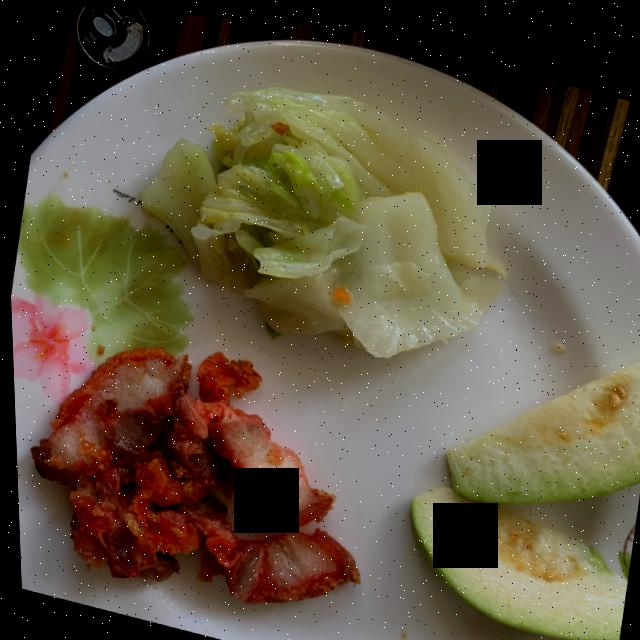cabbage: (141, 82, 499, 351)
coin: (76, 5, 149, 68)
guava -sliced-: (406, 350, 640, 631)
red grilled pork: (28, 345, 355, 599)
